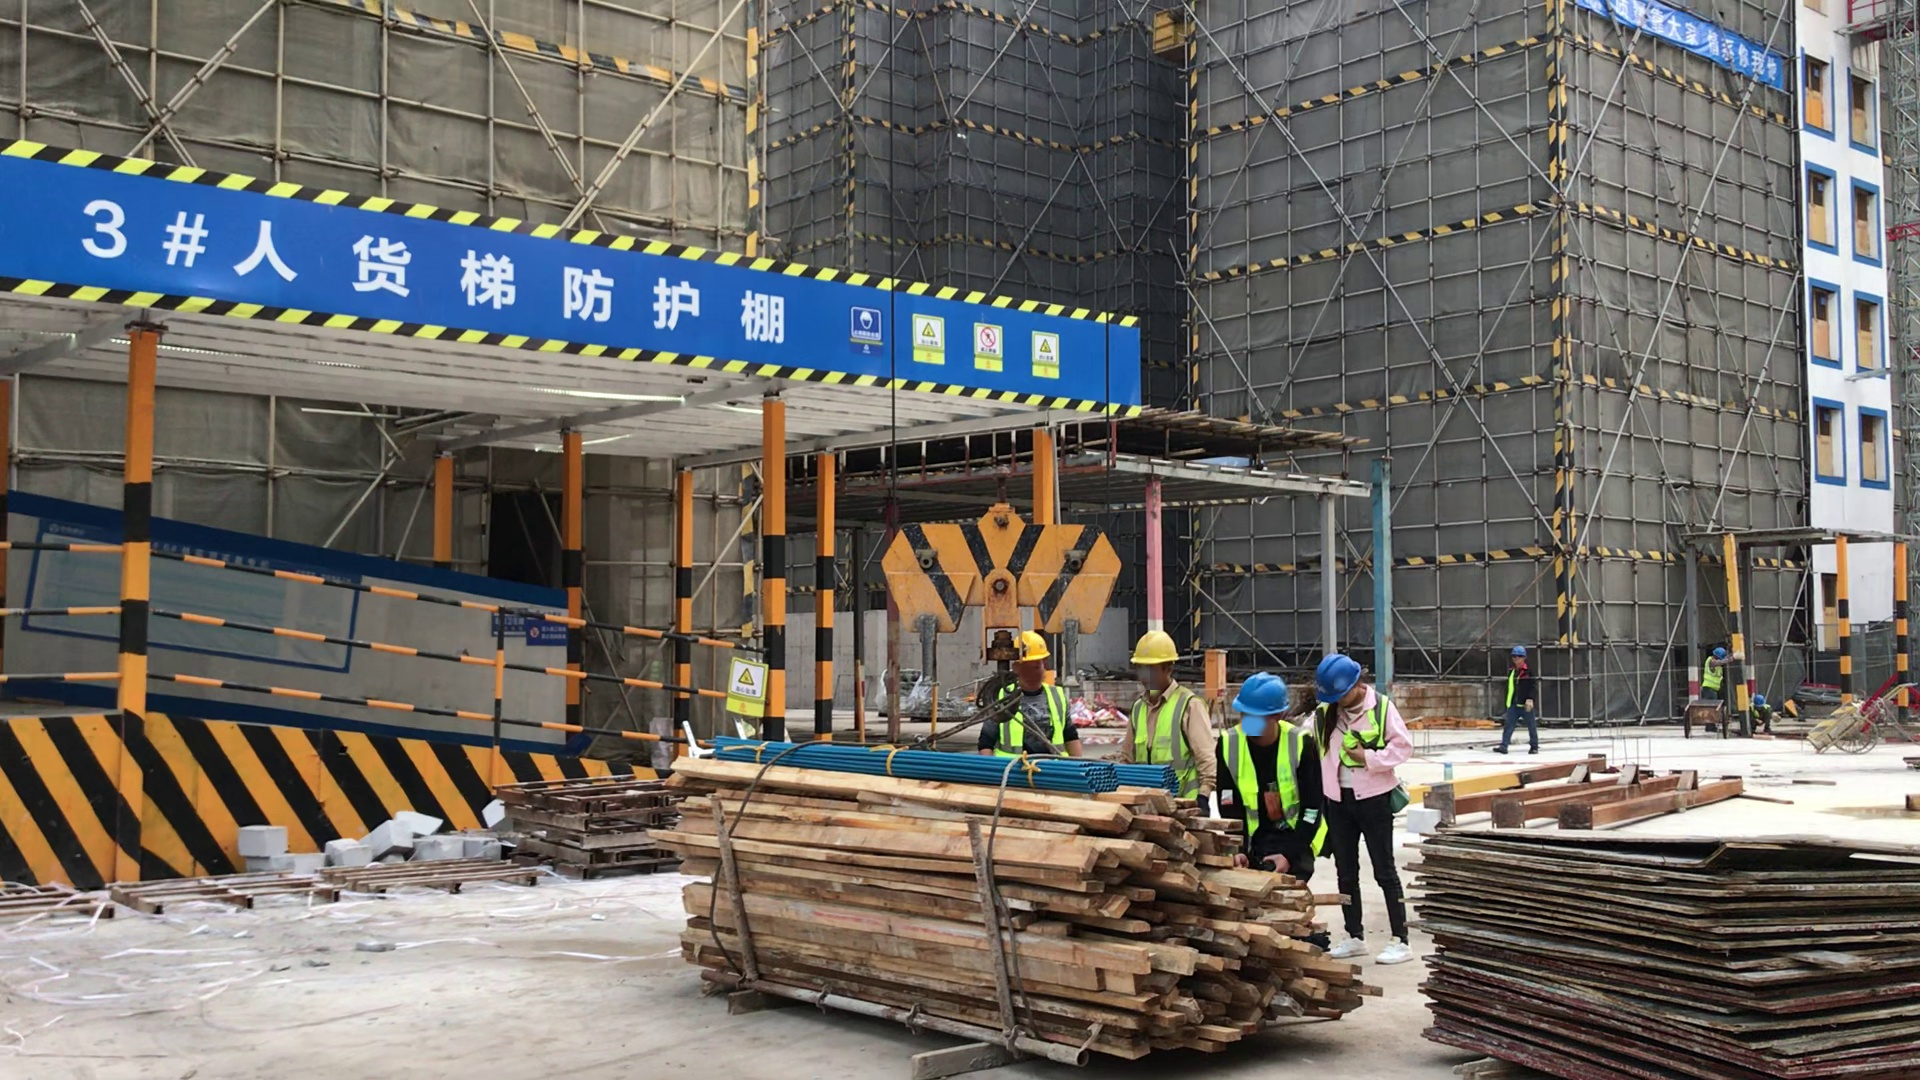board: (1422, 800, 1904, 1080)
handcart: (1804, 680, 1907, 757)
helmet: (1232, 670, 1291, 715), (1314, 655, 1359, 703), (1126, 629, 1180, 665), (1006, 628, 1051, 667), (1710, 647, 1726, 660), (1510, 645, 1525, 657), (1754, 693, 1765, 707)
hook: (877, 505, 1128, 652)
person: (1301, 645, 1411, 954), (1213, 671, 1323, 889), (1117, 629, 1214, 807), (975, 629, 1086, 760), (1491, 642, 1543, 757), (1749, 692, 1784, 735), (1700, 645, 1726, 701)
slogan: (1568, 1, 1791, 94)
vest: (1217, 724, 1299, 836), (1130, 692, 1201, 804), (1322, 704, 1397, 803), (994, 686, 1068, 756), (1700, 658, 1724, 690)
wood: (649, 749, 1378, 1065)
